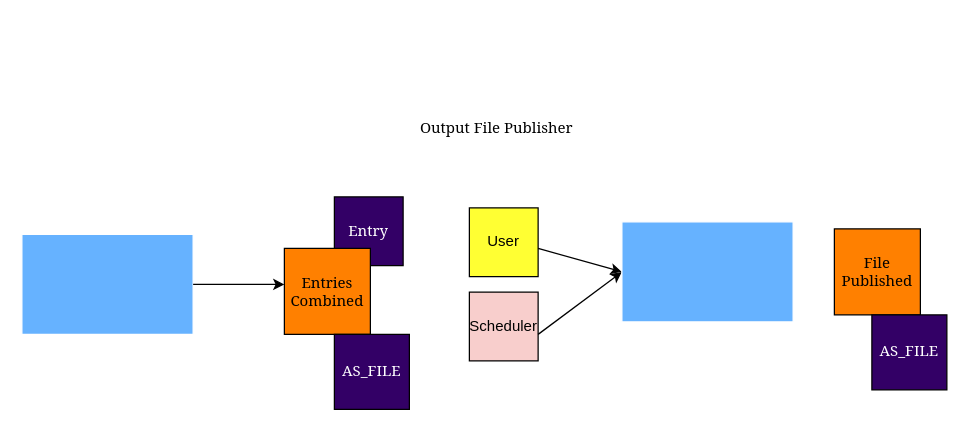
Some shapes in this 969 by 431 pixel diagram are drawn without their labels. Here are the shapes that lost their labels. From the top down, the centre of each, then its label:
At point 107,283: "CombineEntry".
At point 707,271: "FilePublisher".
